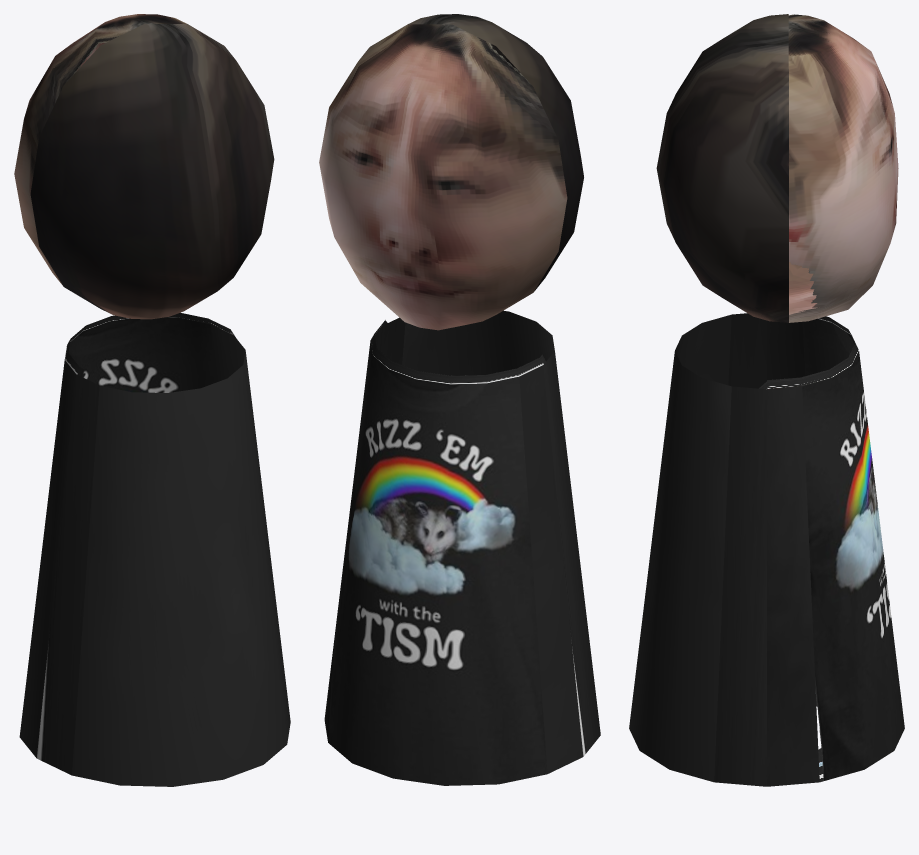
Rendered from brad_mii.fbx.
3 renders of one model, left to right at view 1: azimuth 30°, elevation 25°; view 2: azimuth 150°, elevation 25°; view 3: azimuth 270°, elevation 25°, orthographic.
Visible parts, largest first — view 1: mii.002; view 2: mii.002; view 3: mii.002.
Boxes of the visible parts, box(x1,y1,x2,y2) form: mii.002: box(14, 14, 290, 786); mii.002: box(319, 14, 600, 785); mii.002: box(629, 14, 904, 786).
Bounding box in the file's own units: 50 × 160 × 50.
1 material, 1 textured.
